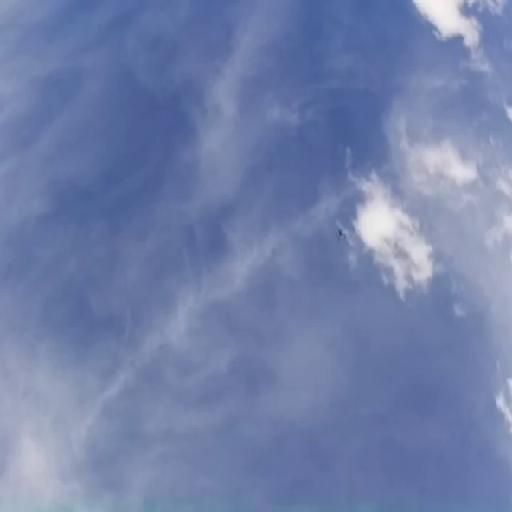drones: (334, 223, 350, 245)
